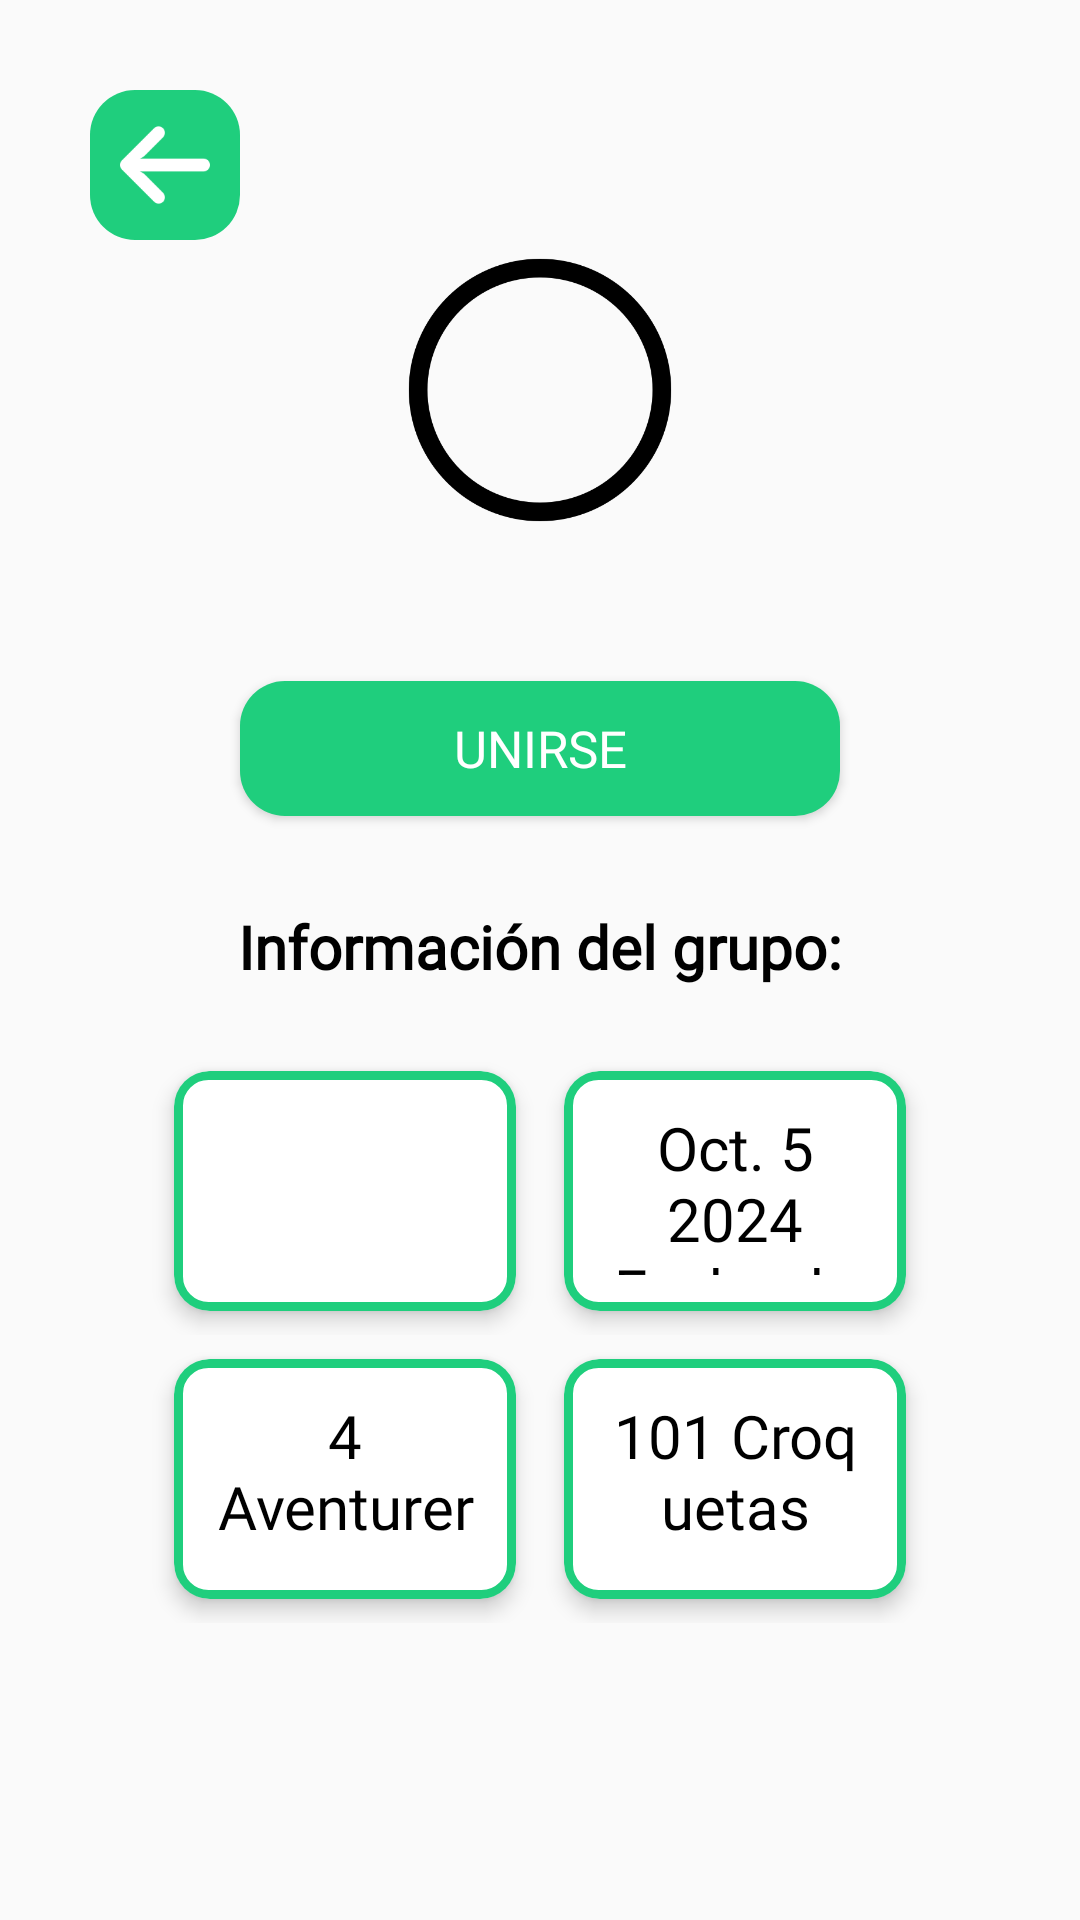

Locate icon controls on the screen. Image size 1080x1920, boxes as {"left": x1, "top": y1, "right": x2, "bottom": y2}.
flecha izquierda: {"left": 90, "top": 90, "right": 240, "bottom": 240}
